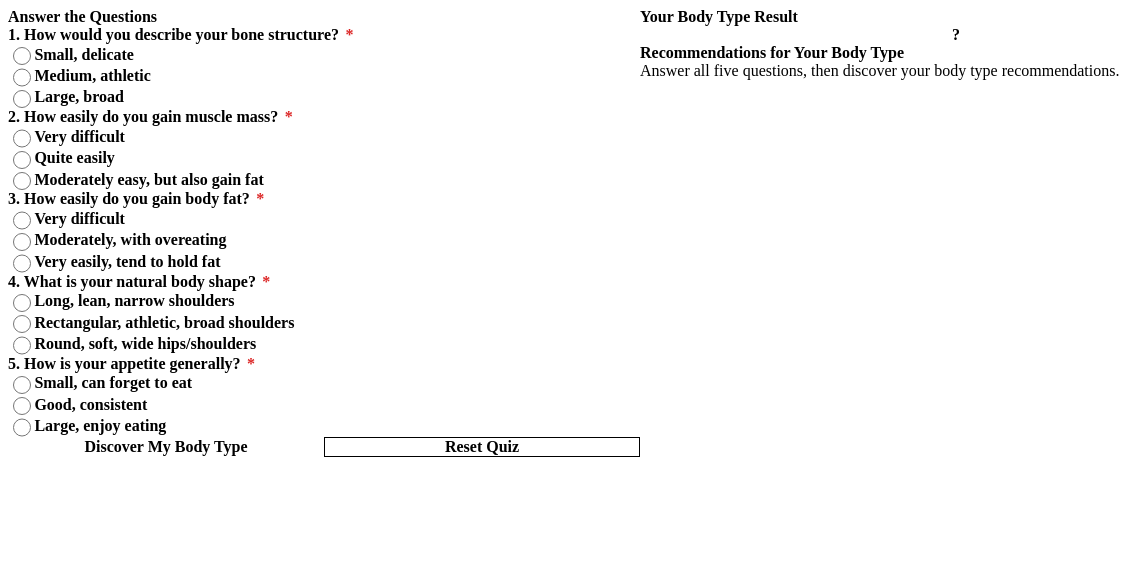
Test: BodyTypeQuiz › requires all five answers with the source message
Click the button "Discover My Body Type". click: (166, 447)
box: [8, 437, 324, 457]
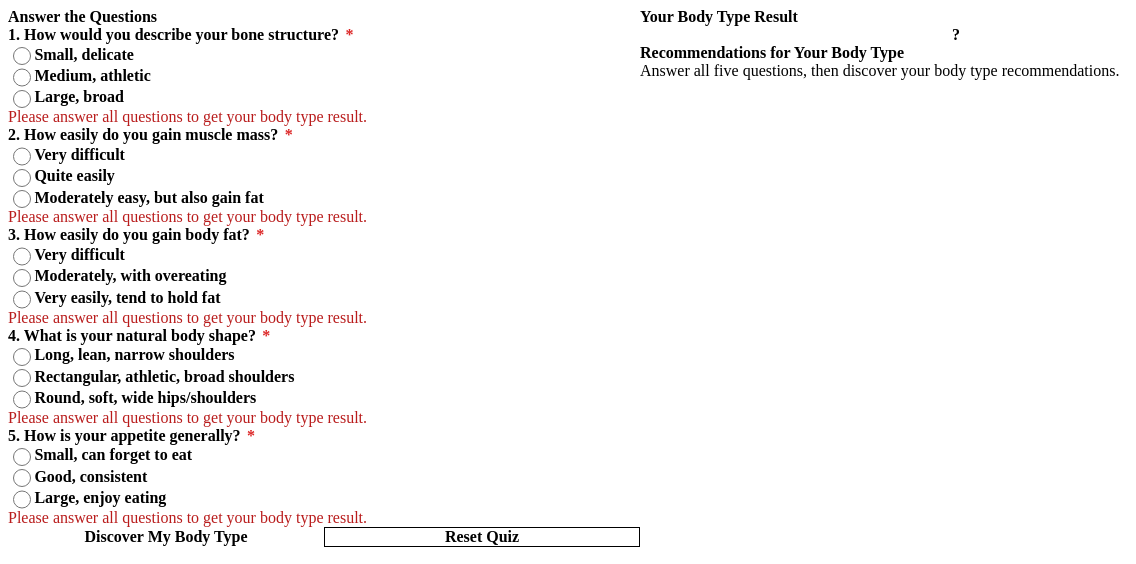
Result: the number of messages is 5 at [8, 108, 367, 125]; [8, 208, 367, 225]; [8, 308, 367, 326]; [8, 409, 367, 426]; [8, 509, 367, 526]
